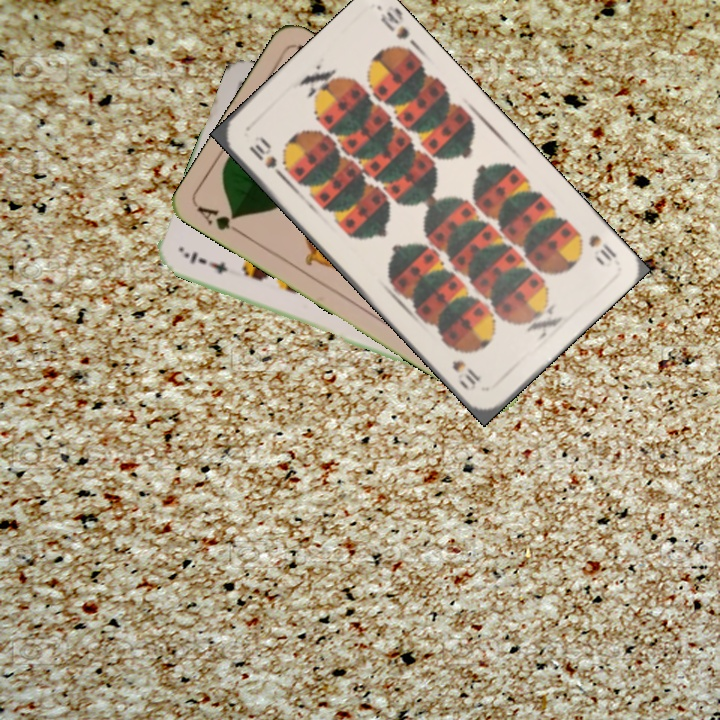E7: (179, 247, 231, 277)
GA: (193, 202, 248, 239)
S10: (244, 133, 287, 181), (584, 230, 620, 264)
